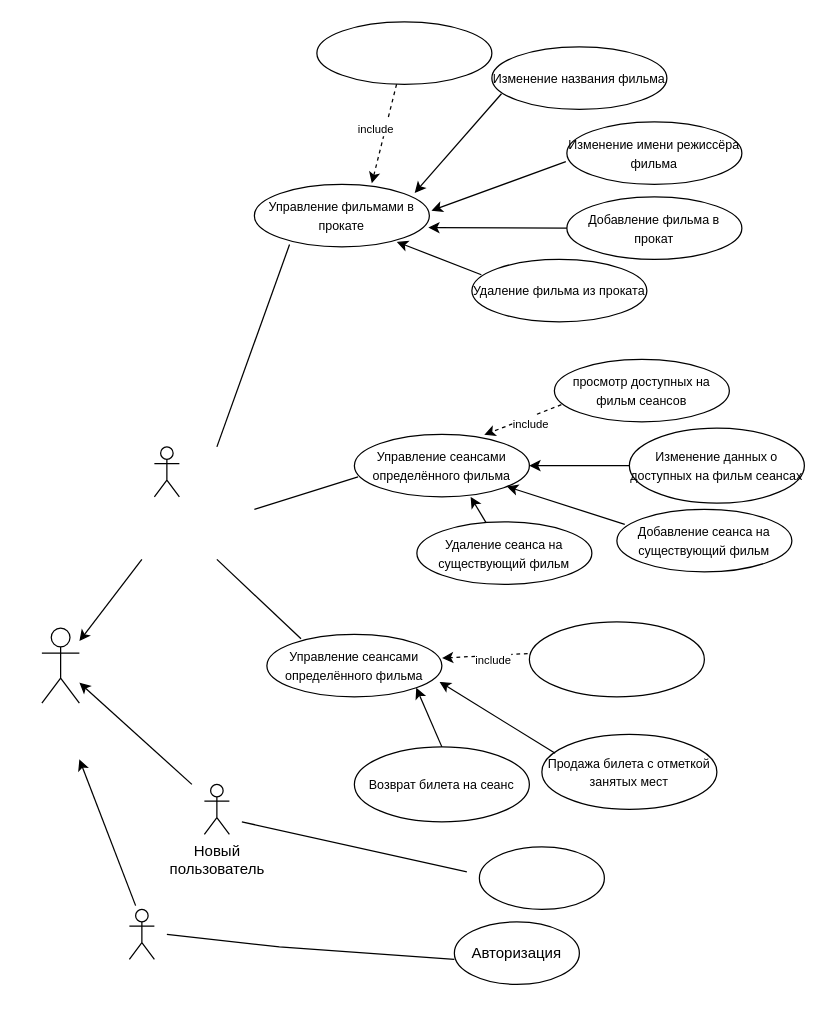
Image size: 826x1026. Some labels were removed from this diagram. The shapes that lost their labels are listed below. From the top down, each one's box as (x1, y1, x2, y2) in pixels, then its label:
(316, 21, 492, 84): Просмотр фильмов в прокате
(153, 446, 179, 497): Зарегистрированный/ Авторизированный сотрудник
(41, 627, 79, 703): Сотрудник кинотеатра
(528, 621, 704, 697): Просмотр свободных и занятых на определённый сеанс мест
(478, 846, 604, 909): Регистрация
(128, 908, 154, 959): Существующий пользователь
